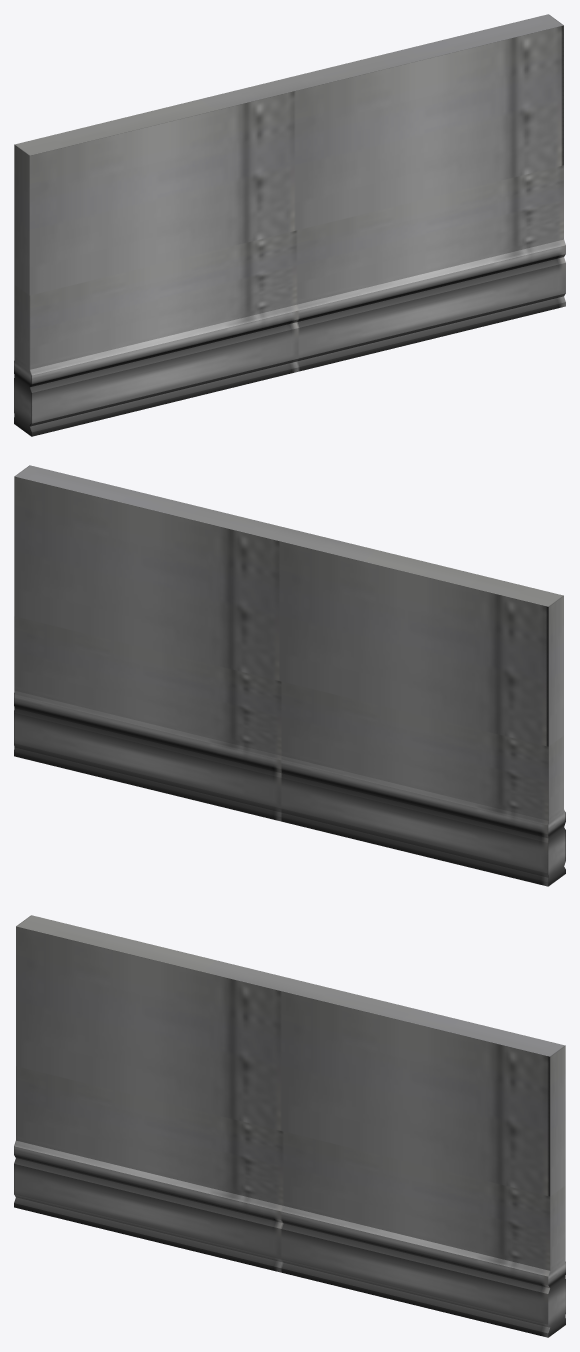
File: metallic_wall05.fbx
3 renders of one model, top to bottom at view 1: azimuth 30°, elevation 25°; view 2: azimuth 150°, elevation 25°; view 3: azimuth 330°, elevation 25°, orthographic.
Parts seen in each view (by area): view 1: Cube; view 2: Cube; view 3: Cube.
Boxes of the visible parts, <box> form: Cube: <box>14,14,565,436</box>; Cube: <box>14,465,565,886</box>; Cube: <box>14,915,565,1337</box>.
Size of the model in its own units: 4000 by 2000 by 229.
Materials: 1 (1 with a texture image).
